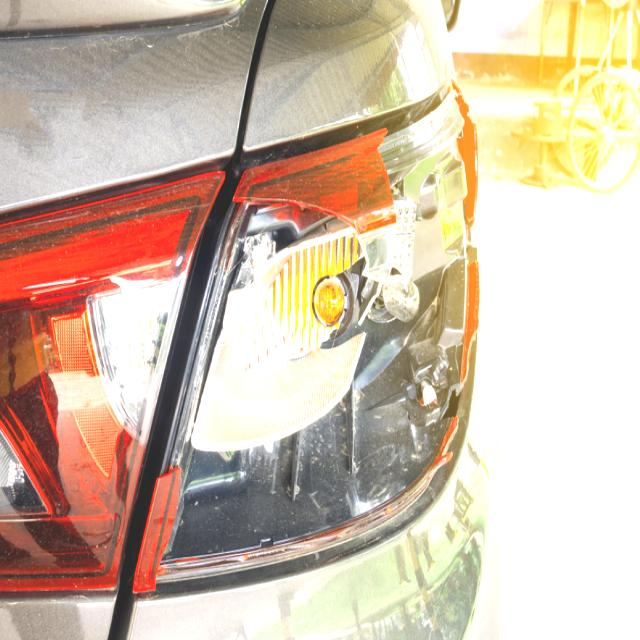Phare abime: (151, 95, 468, 573)
